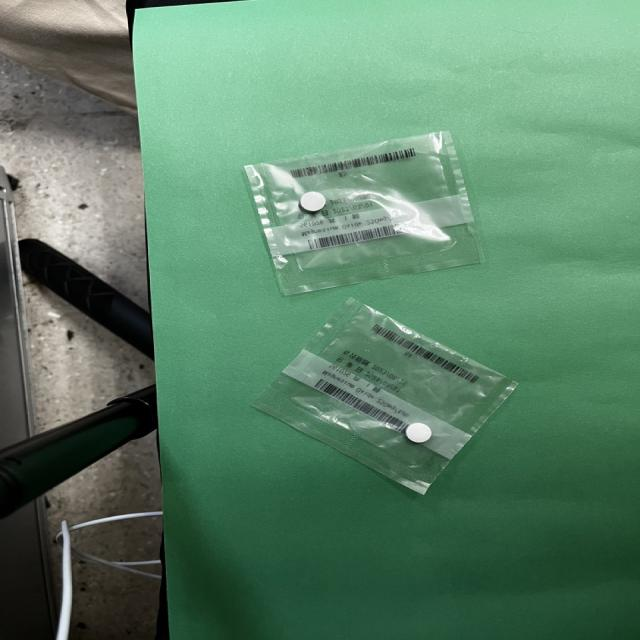Other Objects: (255, 298, 516, 494), (245, 132, 483, 296)
